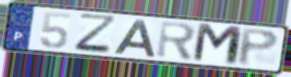5: (39, 10, 73, 50)
A: (112, 18, 157, 58)
M: (190, 21, 245, 68)
P: (236, 27, 281, 67)
R: (155, 19, 199, 63)
Z: (73, 12, 119, 56)
